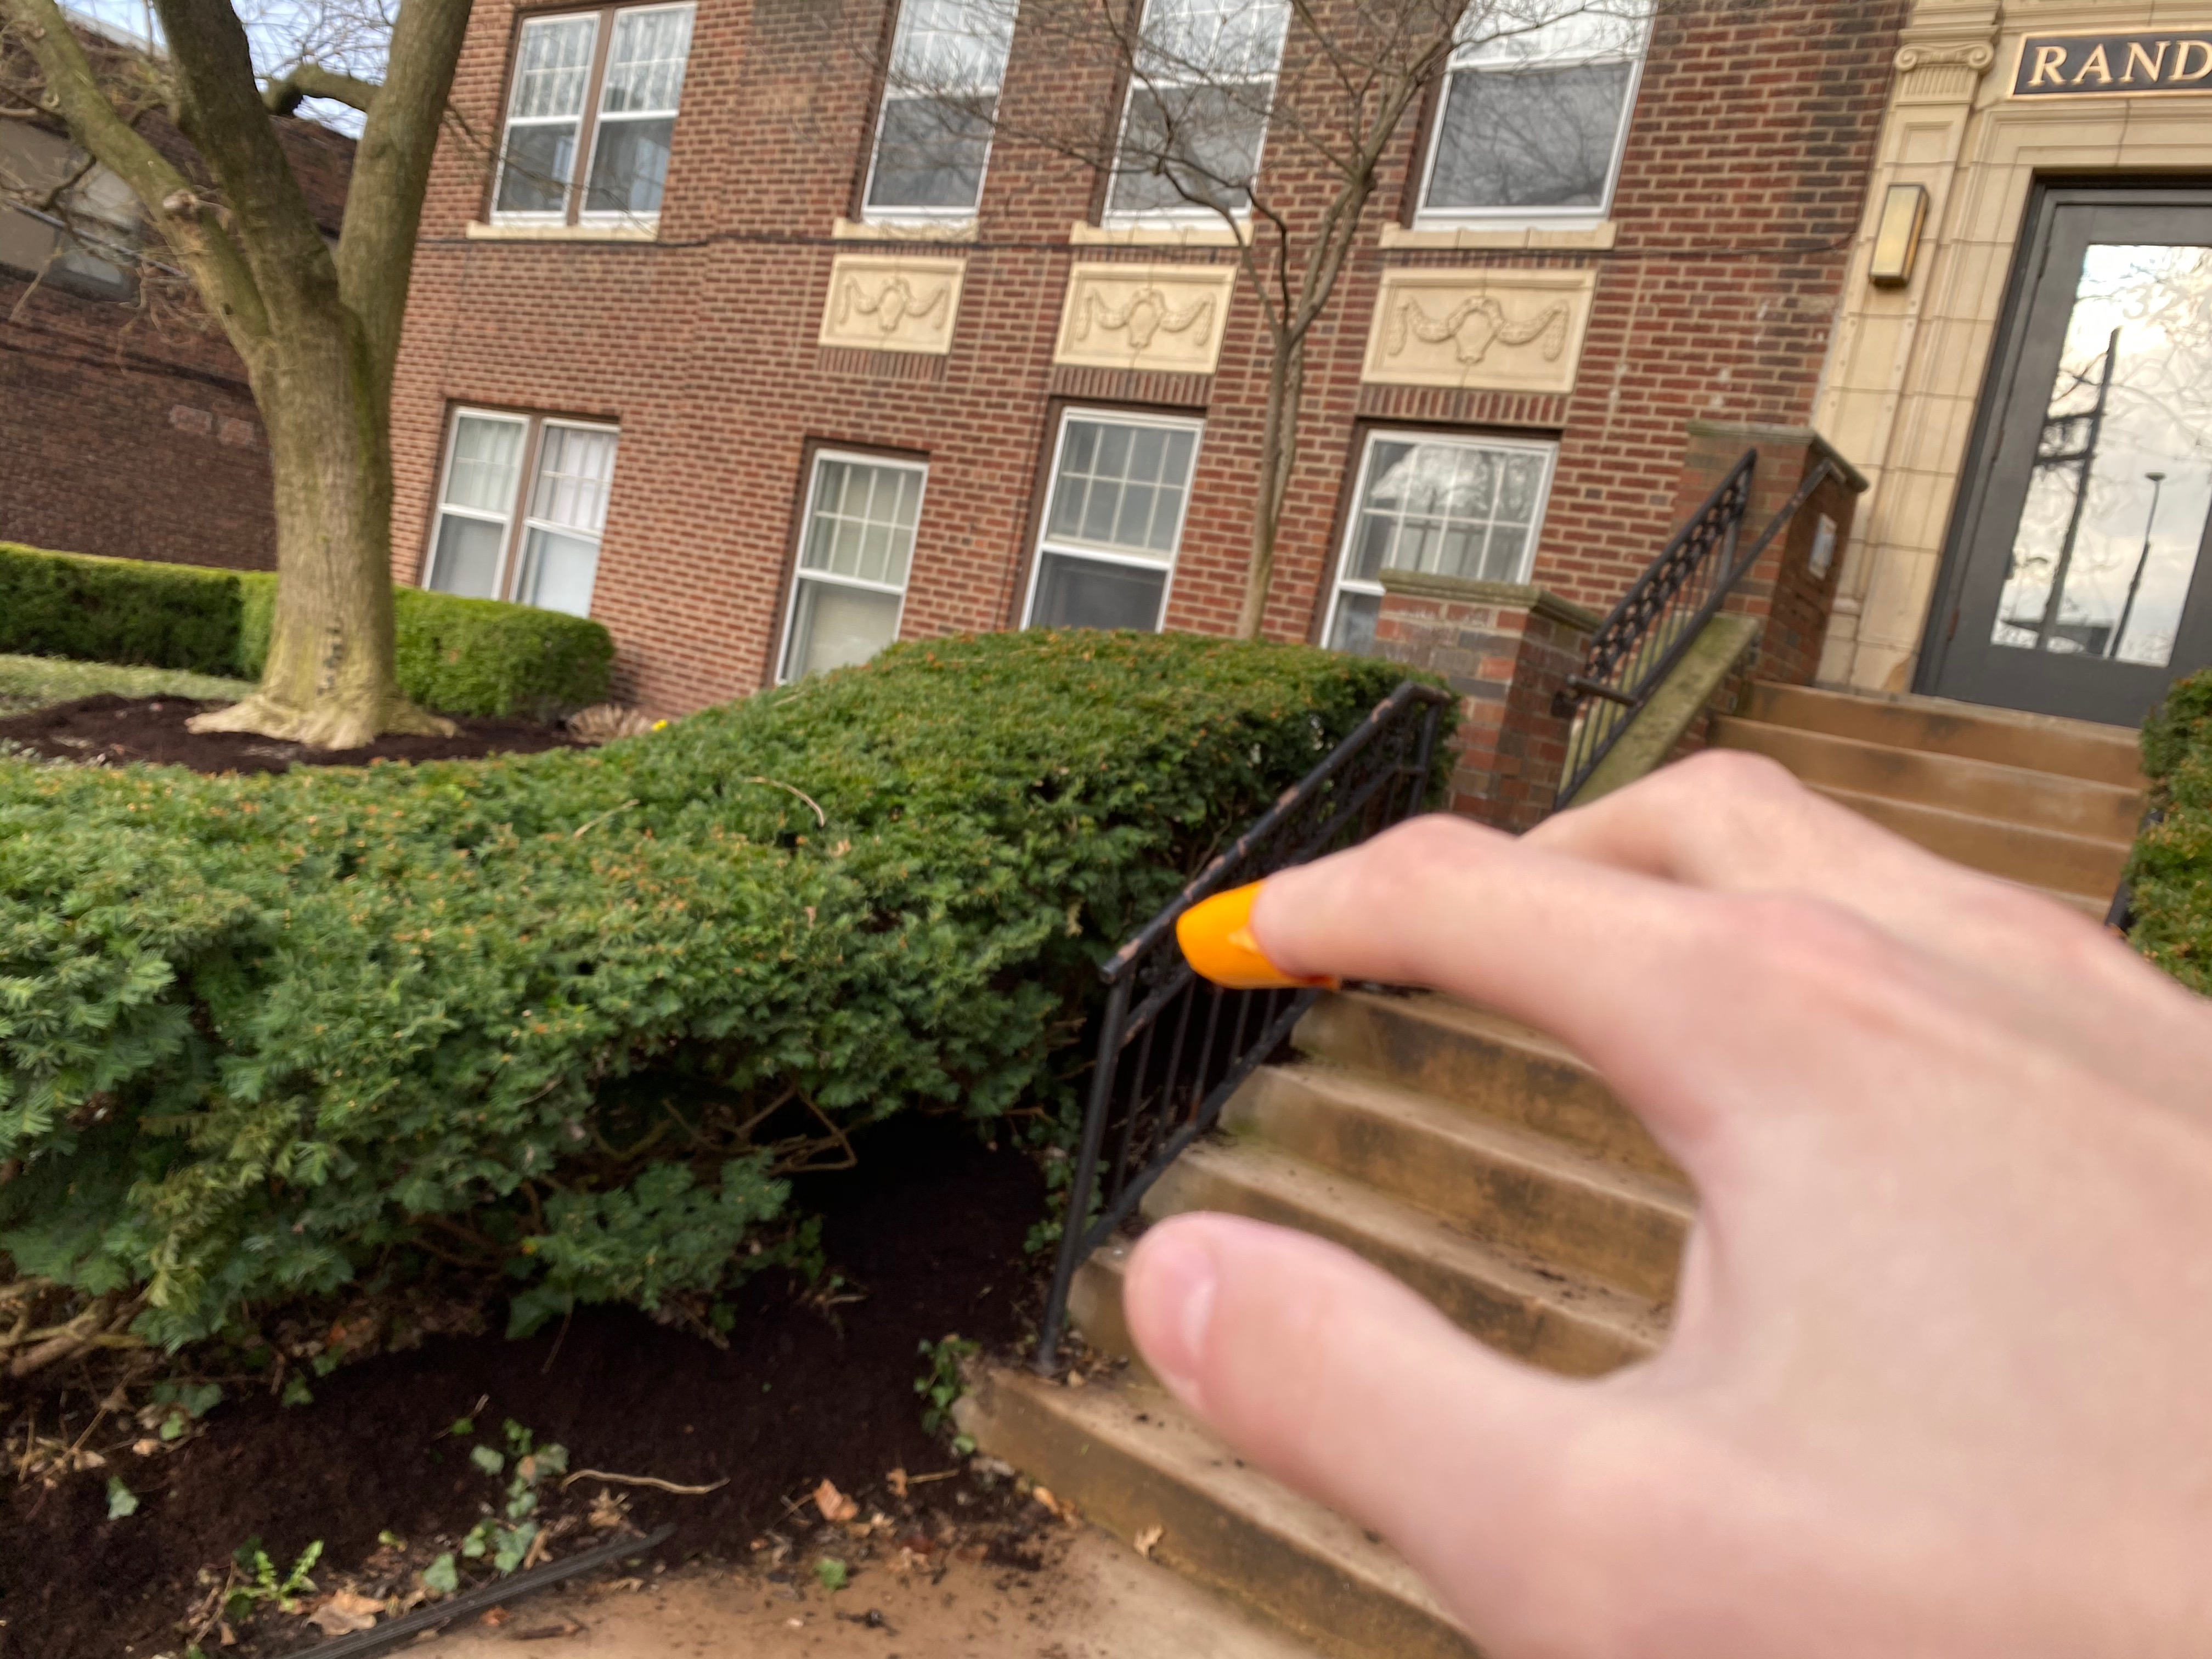fingertip: (1157, 870, 1320, 1014)
